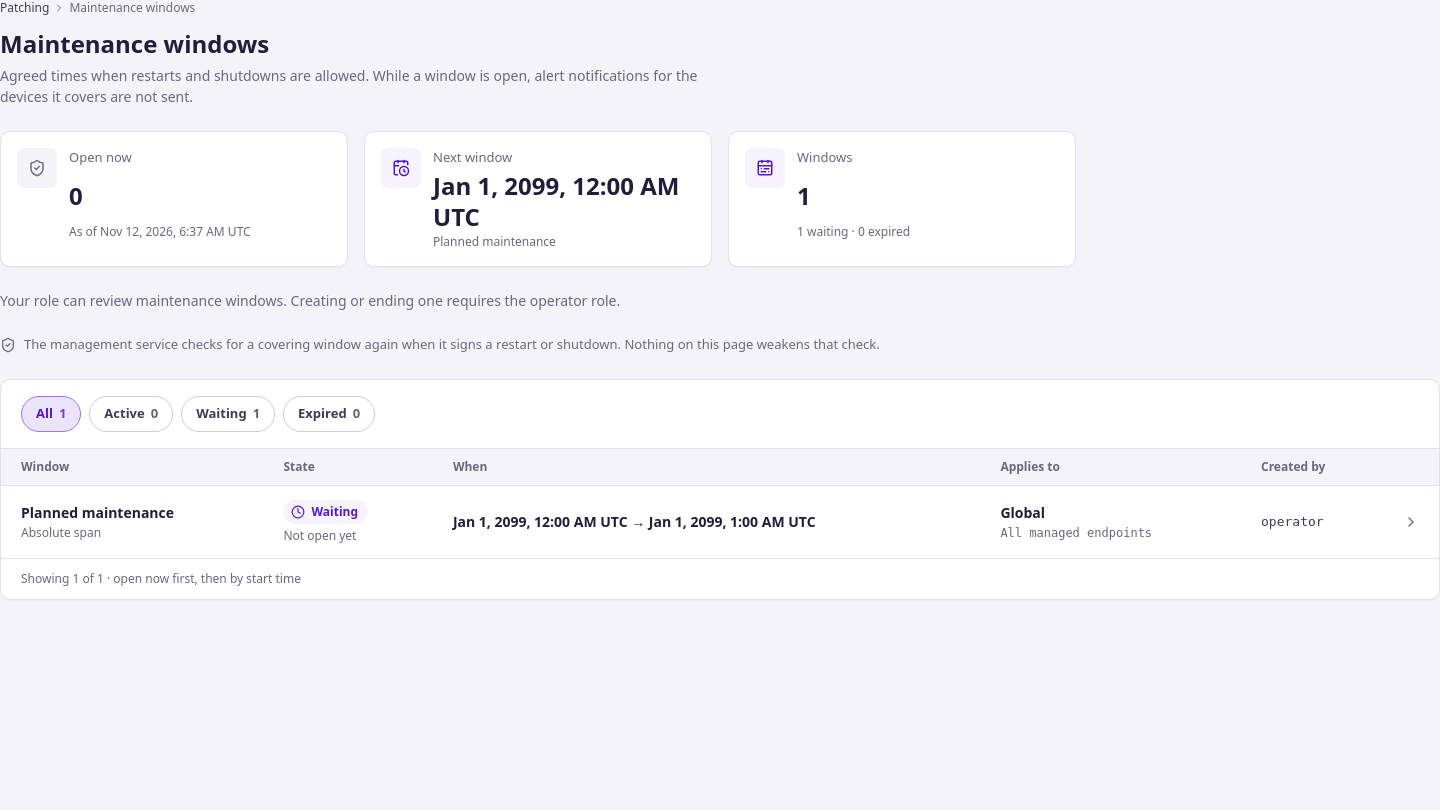
Test: readonly maintenance review hides creation and ending controls
Click the row named "Show schedule for Planned maintenance".
click(720, 521)  # box x1=1 y1=485 x2=1439 y2=558
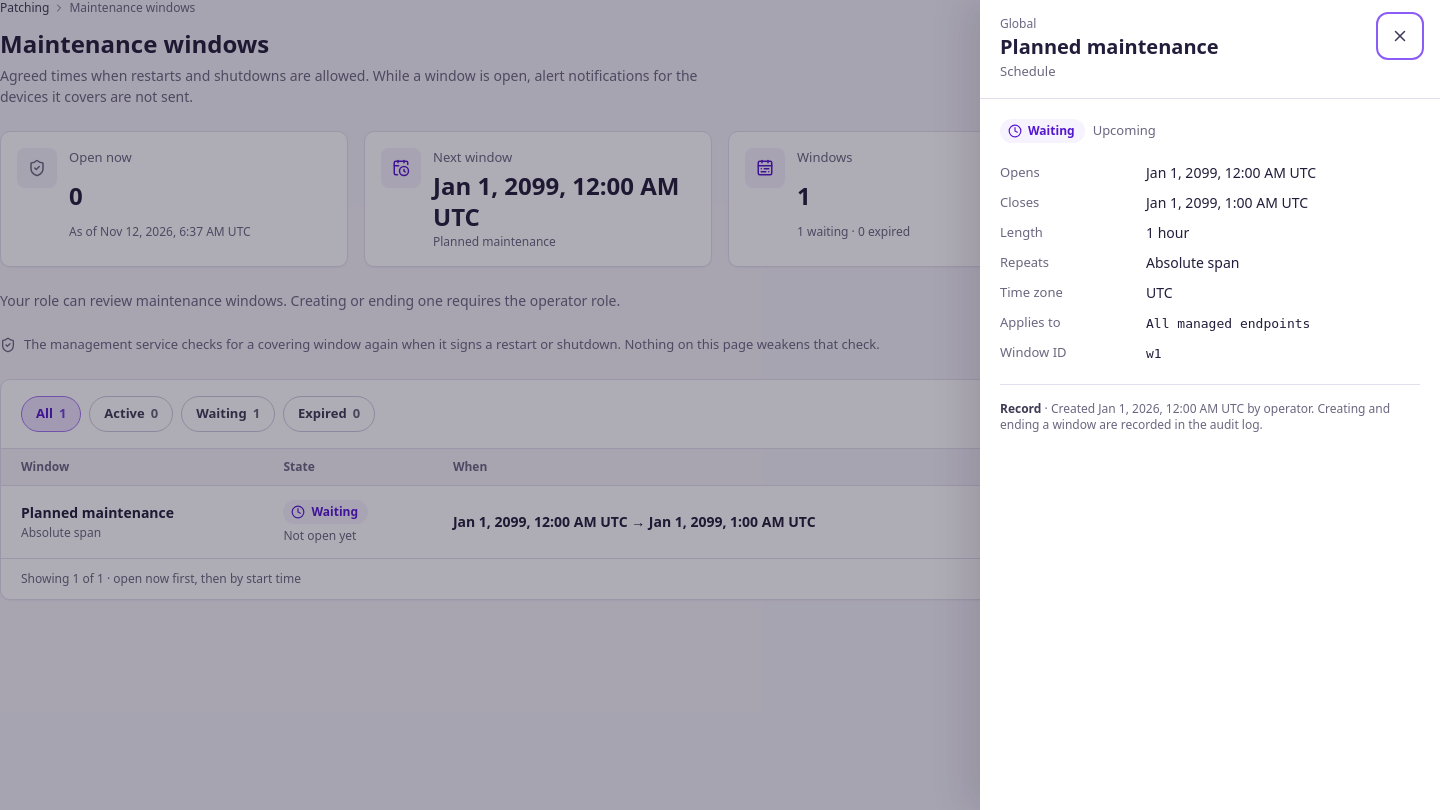
Expected: the text "Waiting" is shown, x1=1000 y1=118 x2=1085 y2=142
